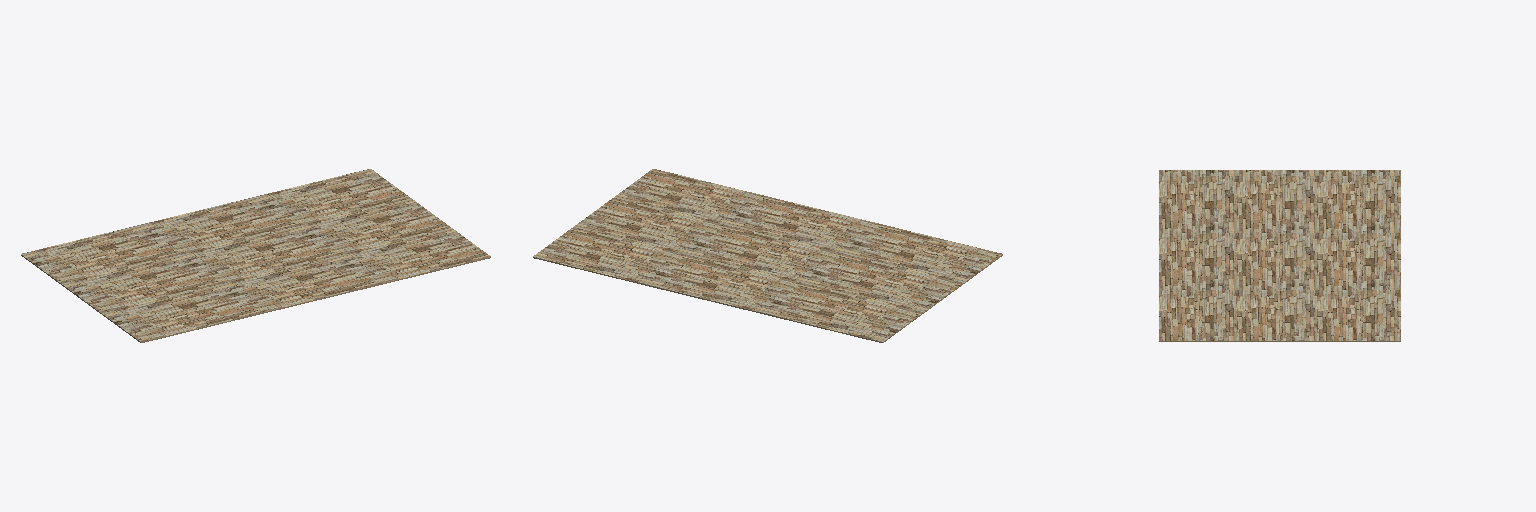
3 renders of one model, left to right at view 1: azimuth 30°, elevation 25°; view 2: azimuth 150°, elevation 25°; view 3: azimuth 270°, elevation 25°, orthographic.
Parts seen in each view (by area): view 1: Box001; view 2: Box001; view 3: Box001.
Part boxes in pixels (left/top/right/bottom): Box001: left=21, top=169, right=490, bottom=342; Box001: left=533, top=169, right=1002, bottom=342; Box001: left=1159, top=170, right=1400, bottom=341.
Size of the model in its own units: 3100 by 10 by 1850.
1 materials, 1 textured.